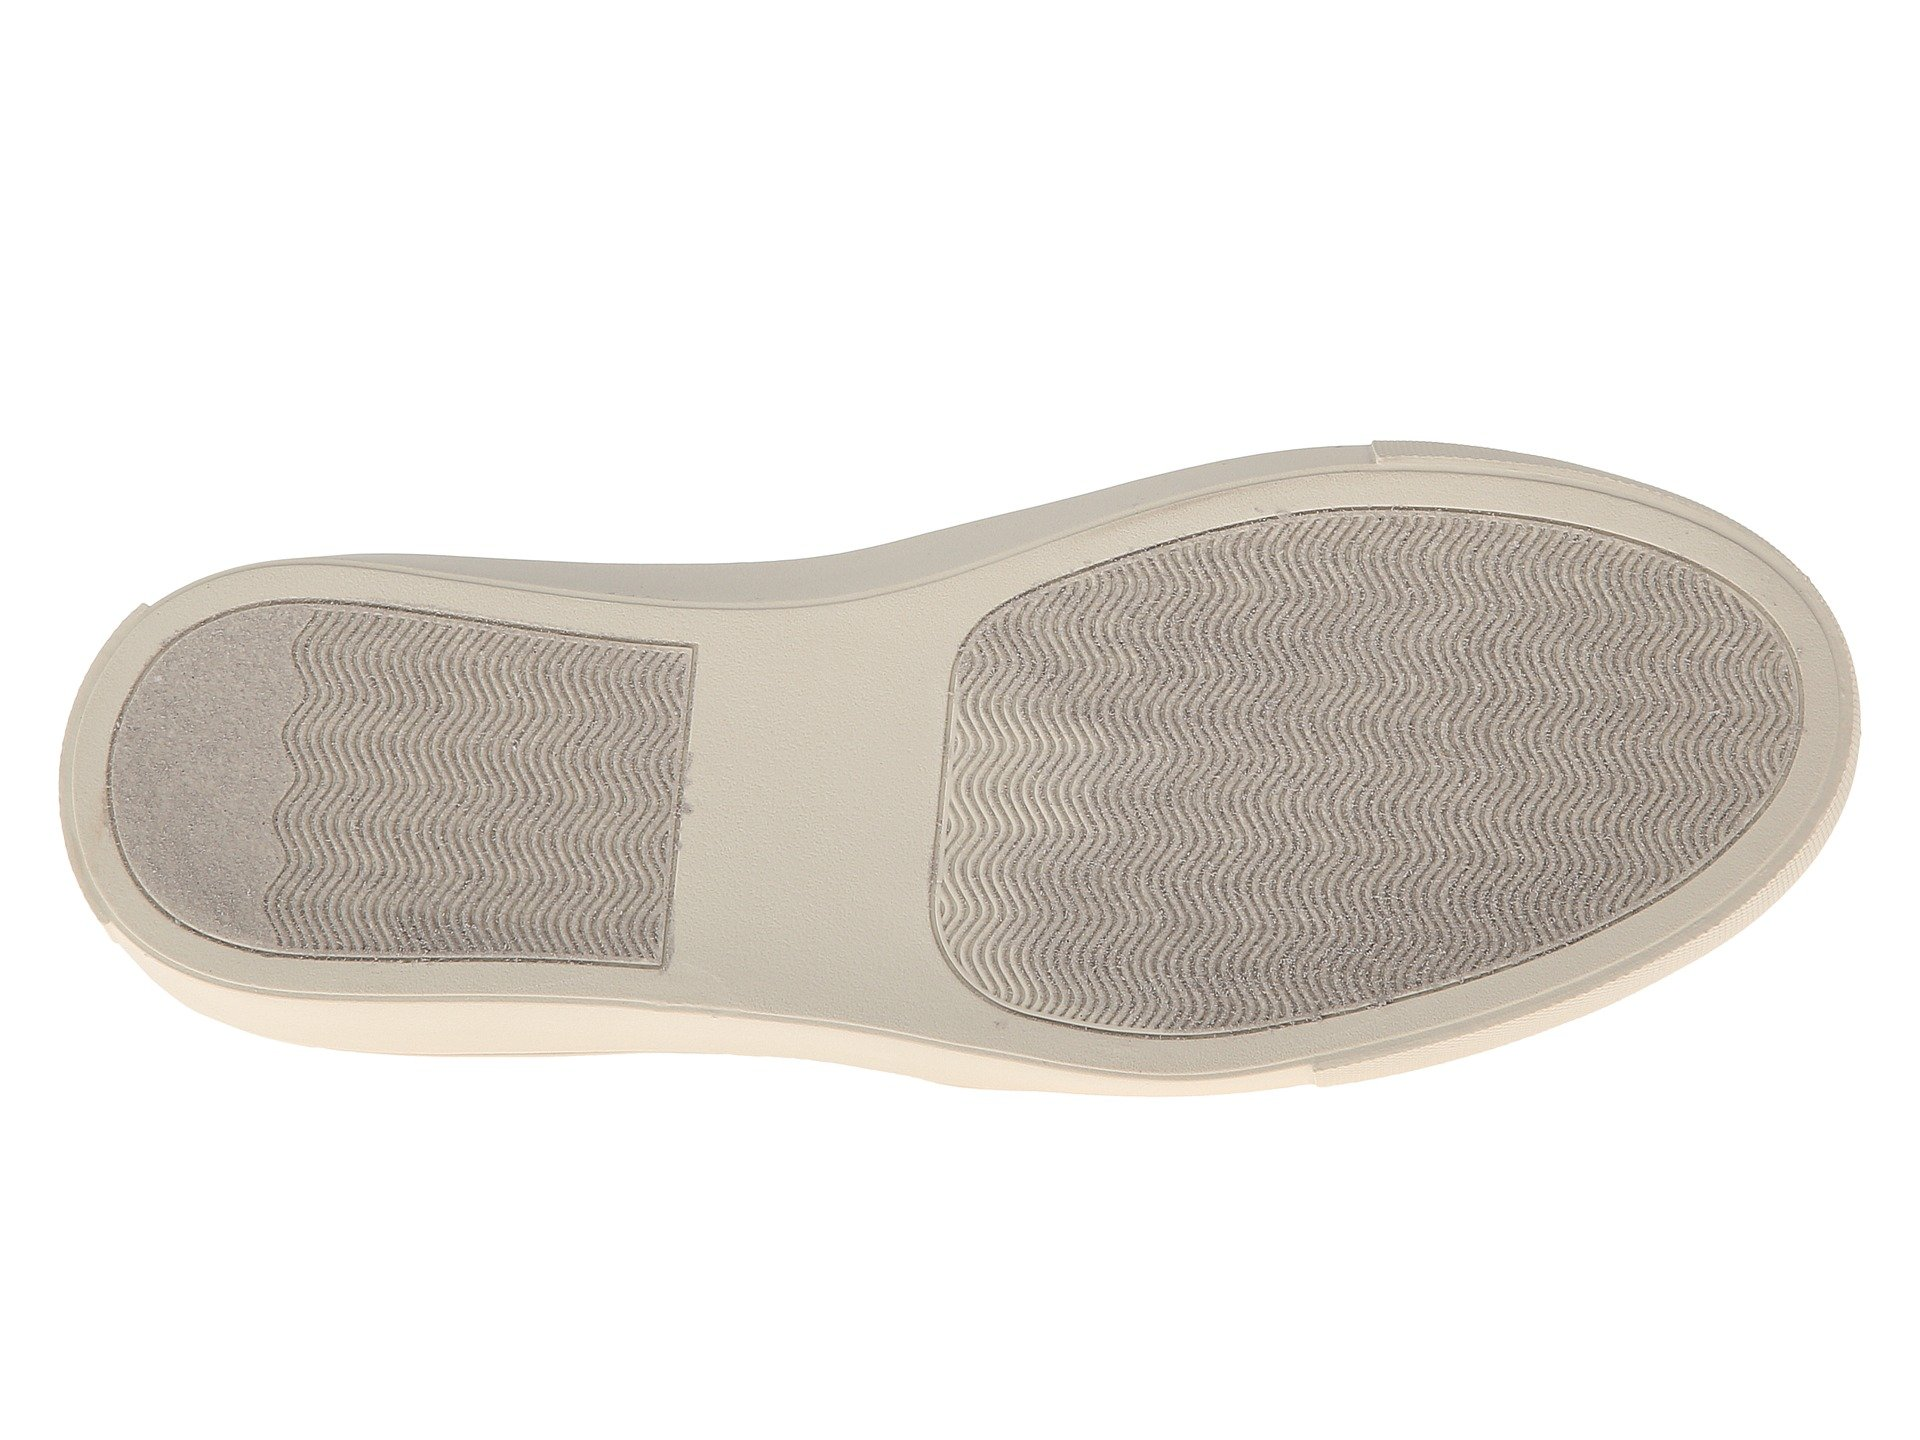chevron: (918, 216, 1202, 563), (1211, 92, 1463, 346), (1469, 159, 1705, 398), (444, 234, 617, 507), (1206, 354, 1420, 545), (252, 200, 440, 399)
other: (653, 194, 890, 430)
